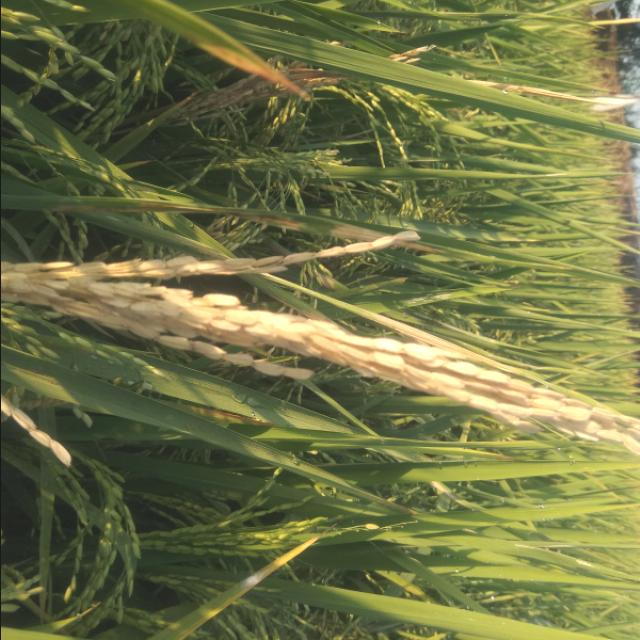Brown spot: (190, 28, 314, 107)
brown plant hopper: (120, 193, 266, 224), (392, 286, 452, 310), (233, 561, 270, 594)
